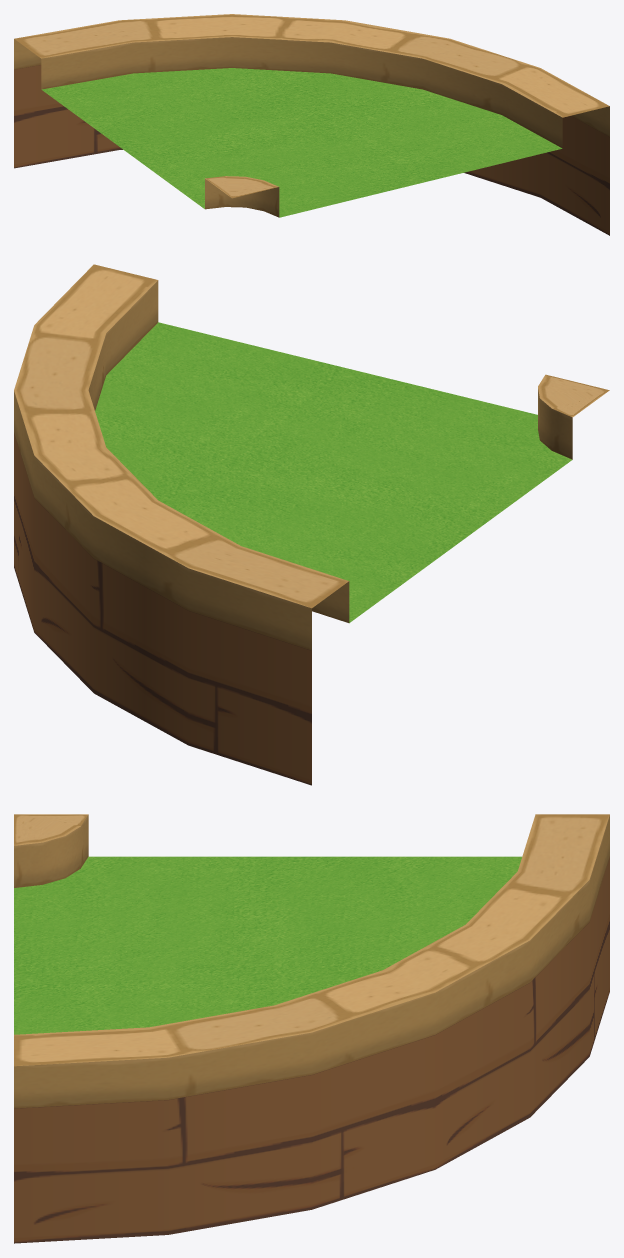
File: tile20.FBX
The picture shows the model from 3 angles, top to bottom: view 1: azimuth 30°, elevation 25°; view 2: azimuth 150°, elevation 25°; view 3: azimuth 270°, elevation 25°; orthographic projection. The views are drawn at different scales.
Parts seen in each view (by area): view 1: tile20_walls, tile20_floor; view 2: tile20_walls, tile20_floor; view 3: tile20_walls, tile20_floor.
Part boxes in pixels (<box>): tile20_walls: <box>14,14,609,235</box>; tile20_floor: <box>41,68,562,217</box>; tile20_walls: <box>14,264,609,785</box>; tile20_floor: <box>95,322,572,622</box>; tile20_walls: <box>14,814,609,1243</box>; tile20_floor: <box>14,856,521,1034</box>.
Size of the model in its own units: 1280 by 420 by 1280.
